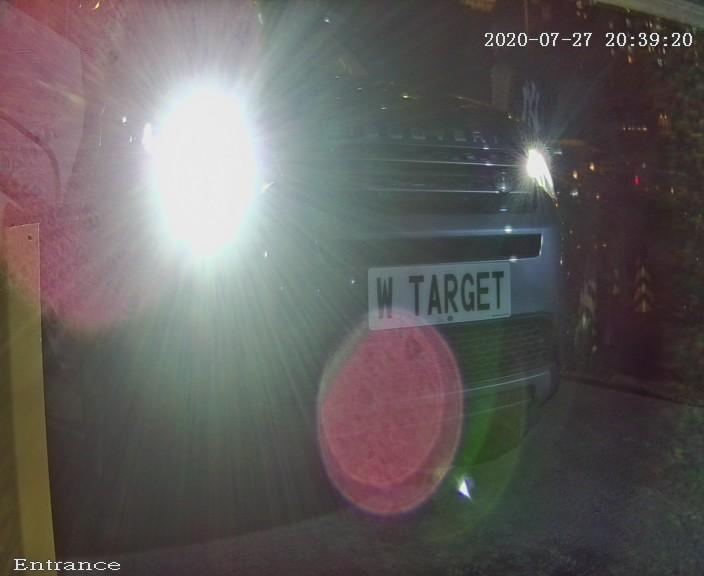privatecar: (57, 1, 613, 538)
